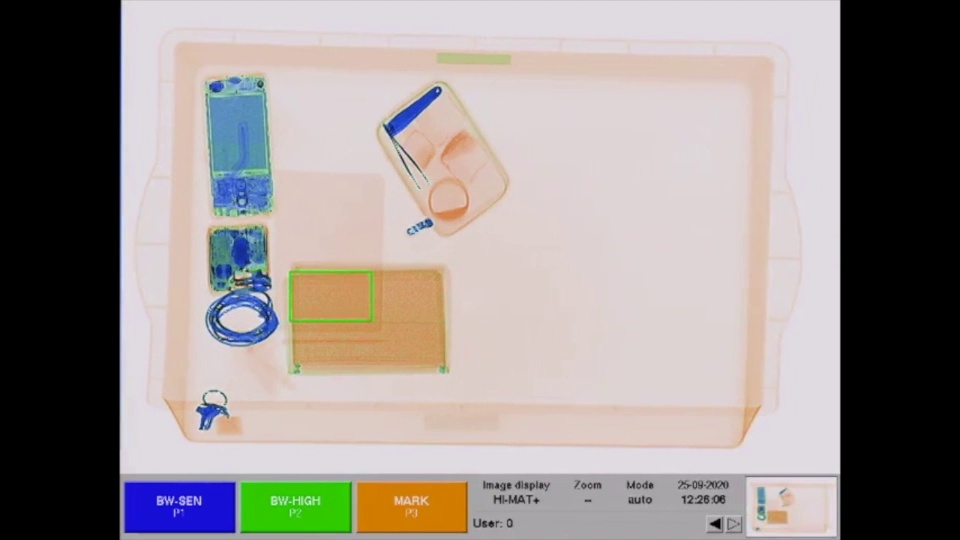tray_img: (132, 22, 806, 460)
